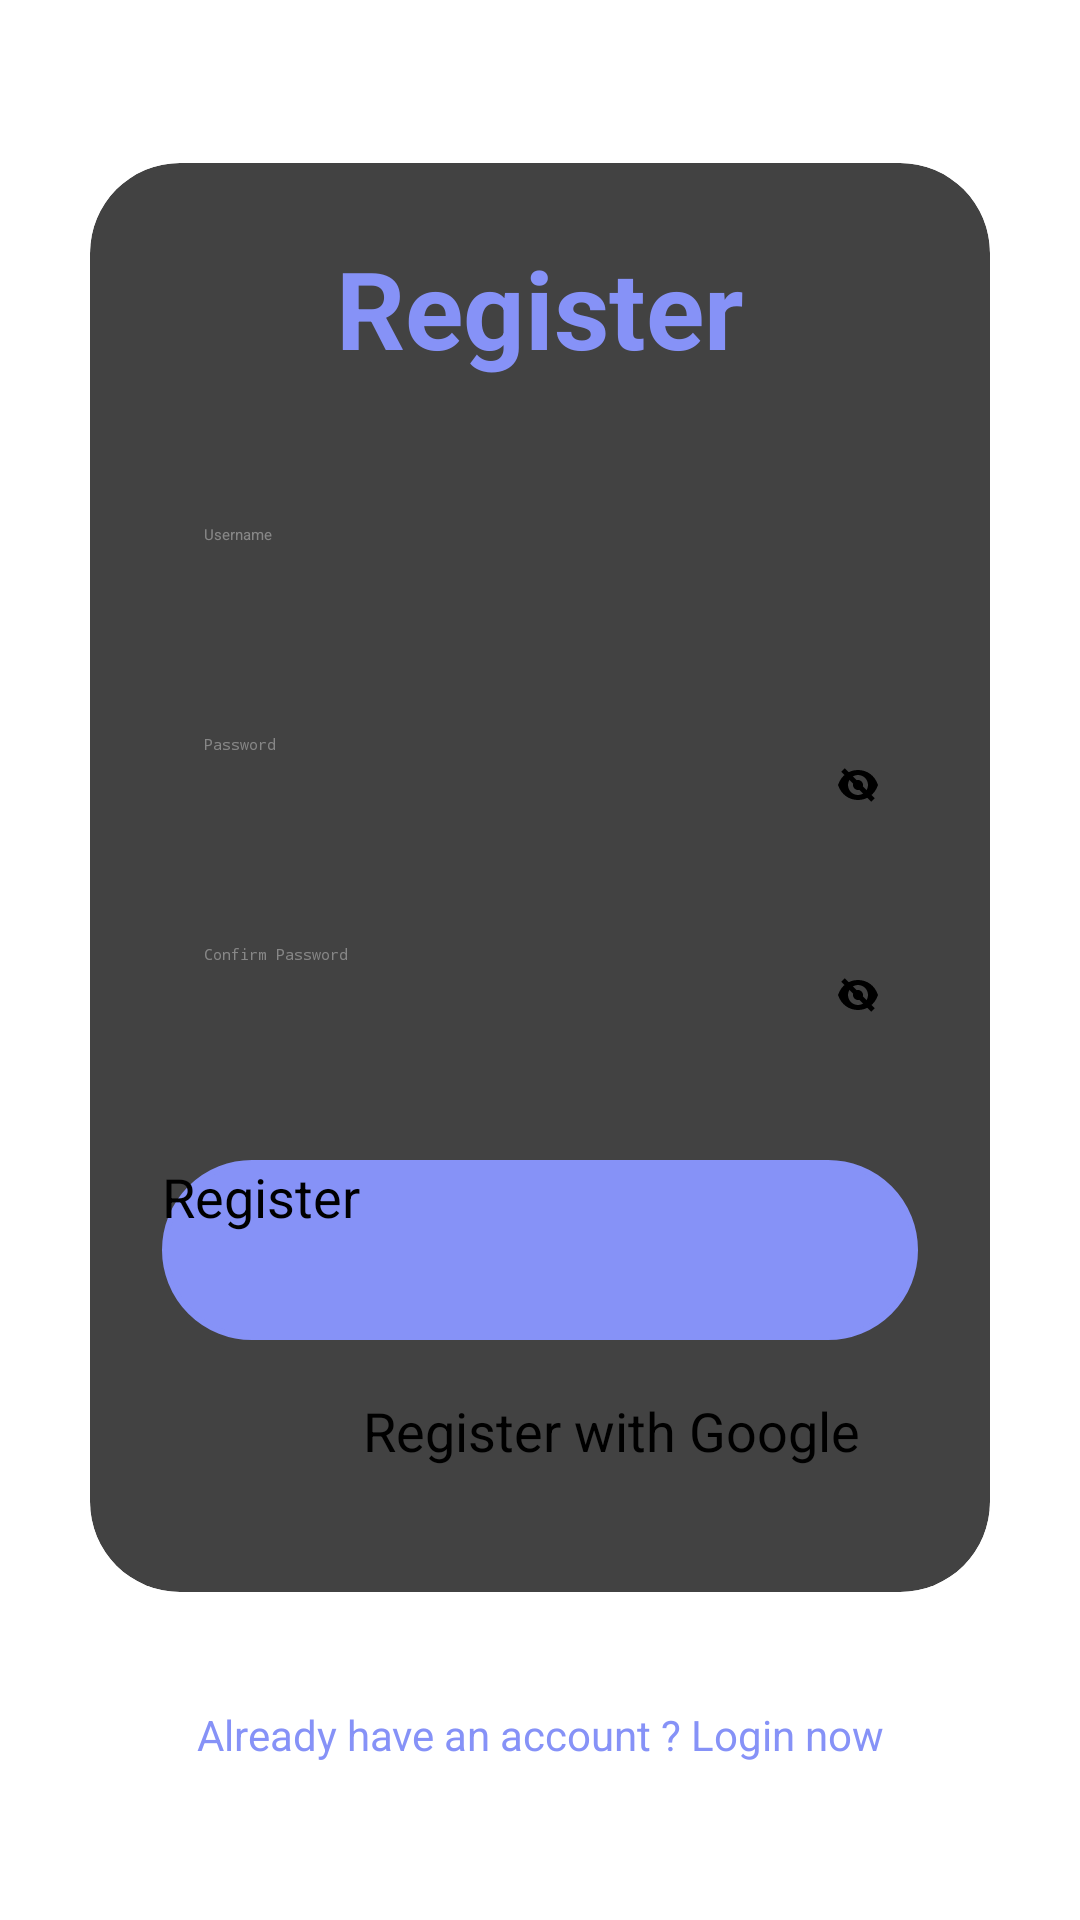

Screen size 1080px x 1920px. Icon name, then its box in pixels as [x1,y1,x2,y2]:
eye closed: [838,768,878,802], [838,978,878,1012]
